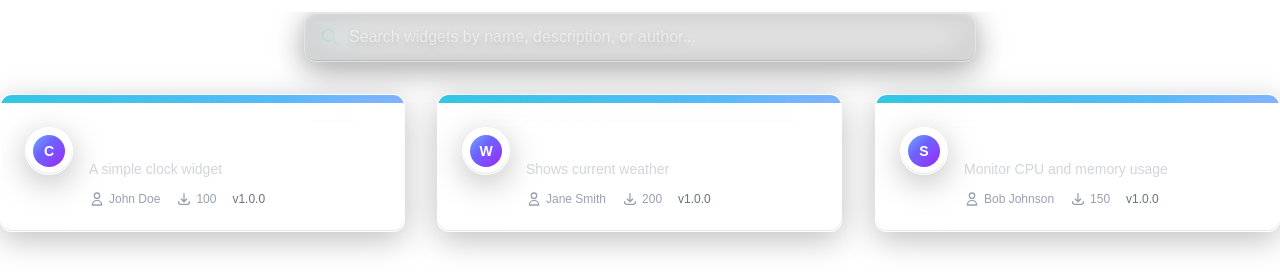
it: WidgetGallery › should show no results message when no widgets match
Type "nonexistent" into the search field with placeholder "Search widgets by name, description, or author...".
click(640, 37); type("nonexistent")  # box [304,12,976,62]
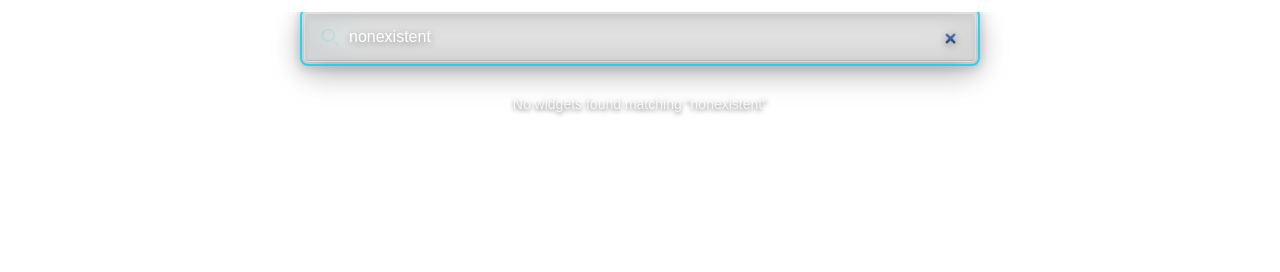
Expected: the text "No widgets found matching \"nonexistent\"" is shown, [513,96,767,112]
